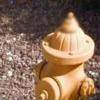Hydrant: (27, 8, 93, 100)
